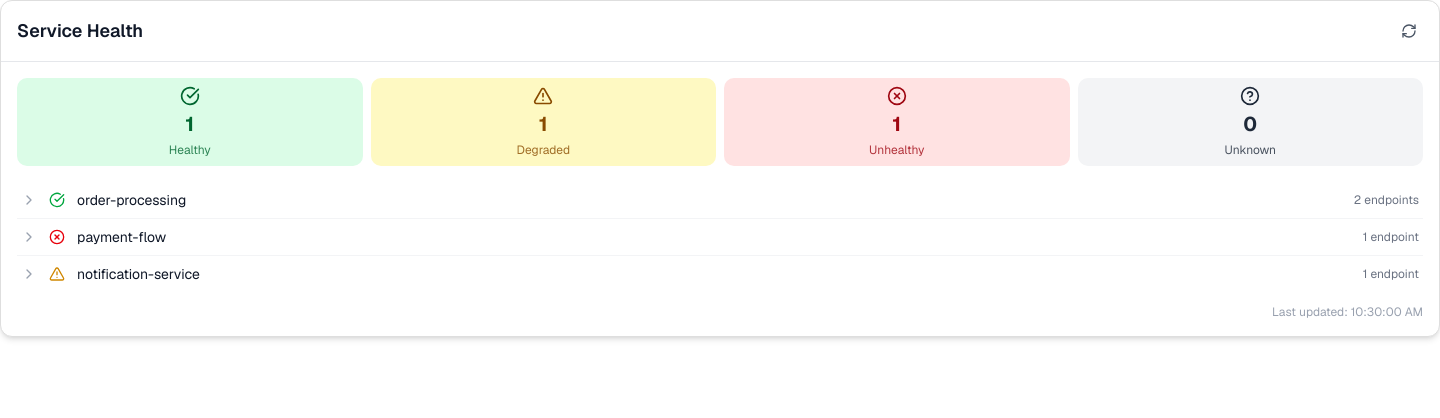
Test: HealthSummaryPanel › should expand workflow row on click
Click the button with test id "workflow-row-order-processing".
click(132, 200)  # box [17, 182, 1423, 218]
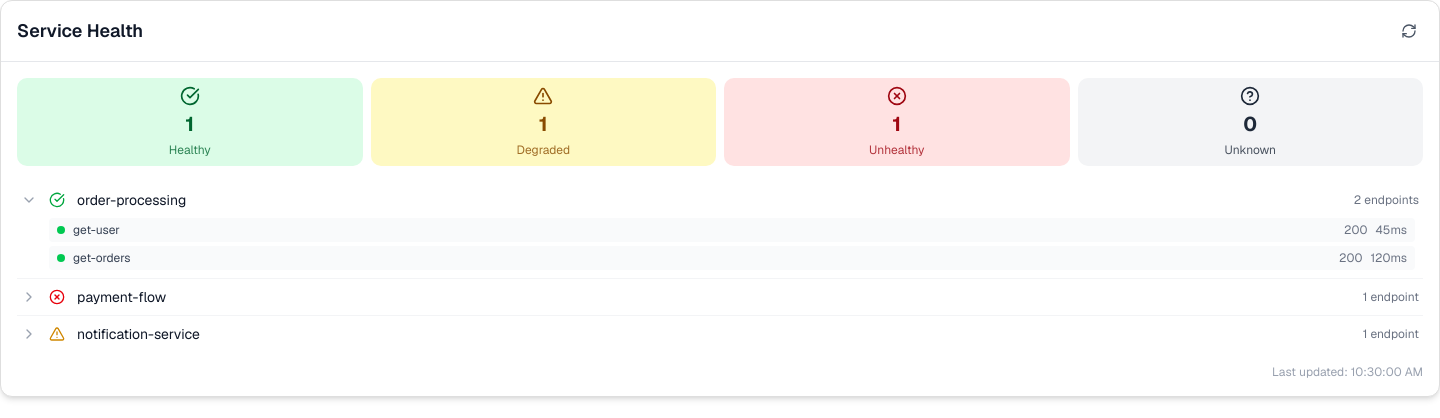
Expected: the element with test id "task-list-order-processing" is shown, [17, 218, 1423, 278]
